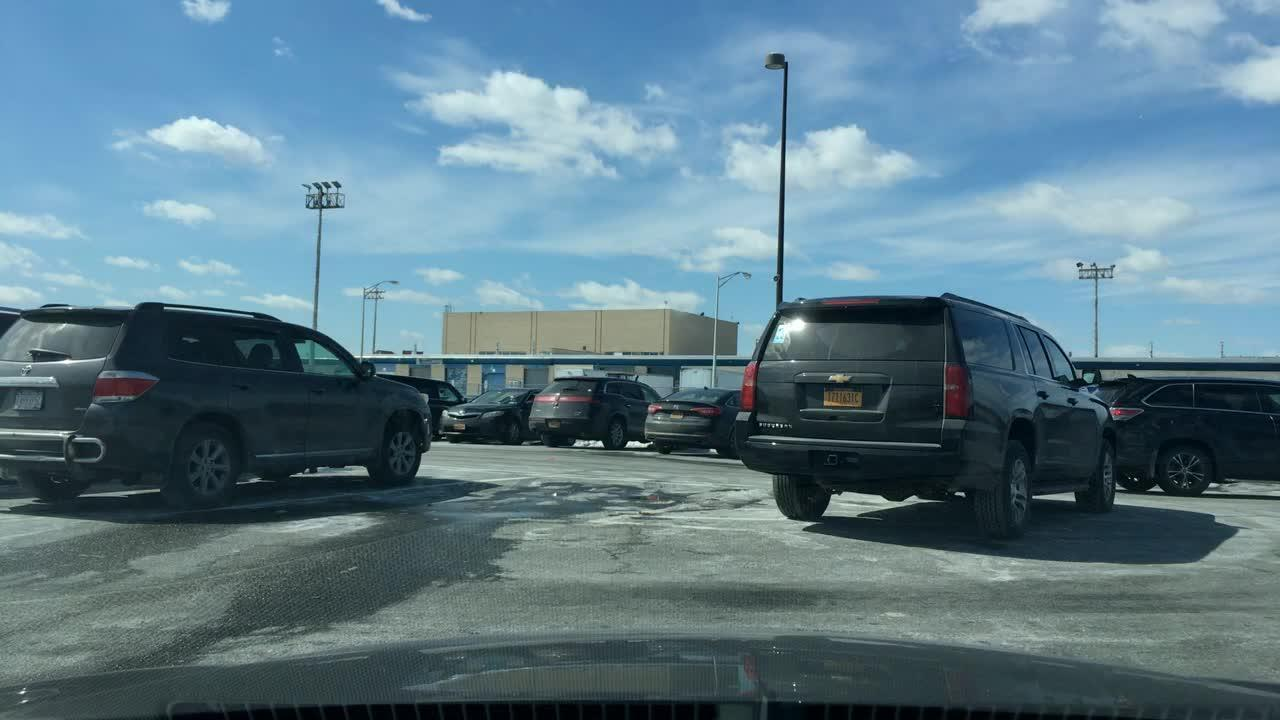chevrolet: (824, 365, 860, 389)
